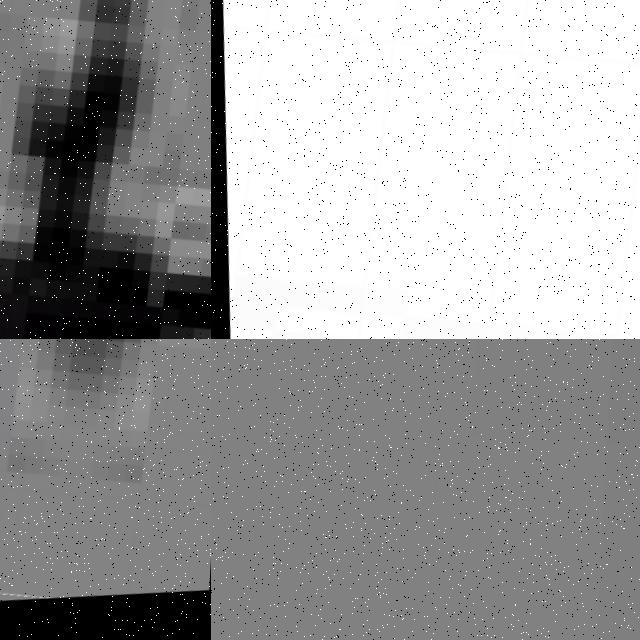0: (0, 0, 211, 339), (0, 339, 211, 640)
drone: (211, 0, 640, 339)
